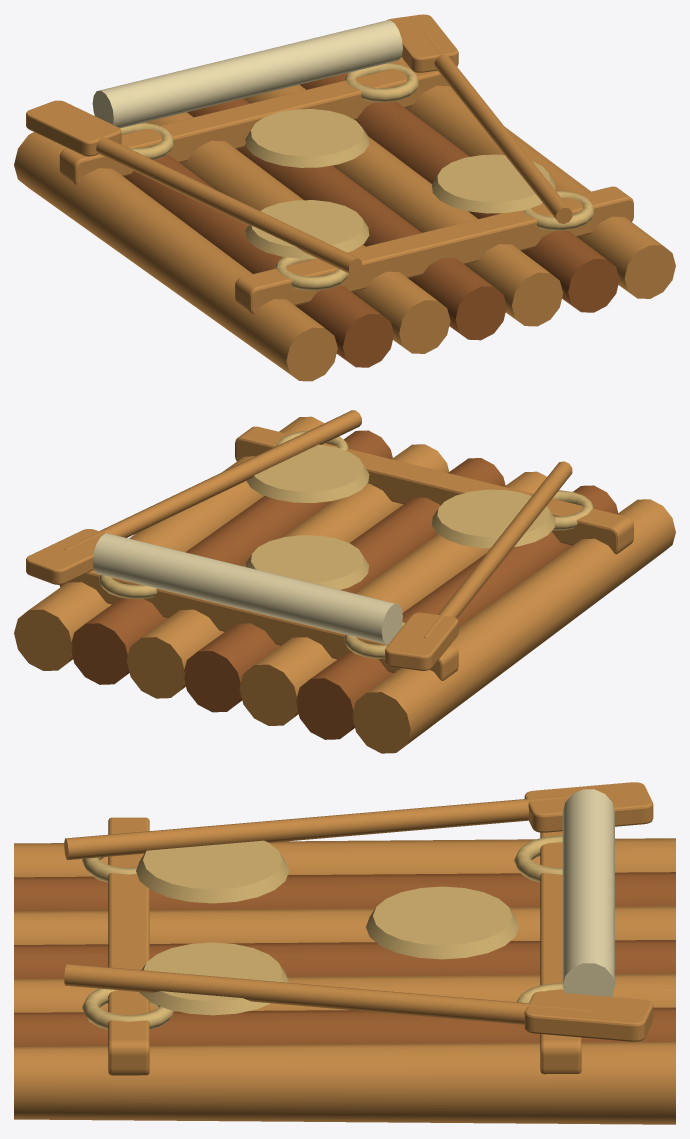
Rendered from raft.glb.
The picture shows the model from 3 angles, top to bottom: view 1: azimuth 30°, elevation 25°; view 2: azimuth 150°, elevation 25°; view 3: azimuth 270°, elevation 25°; orthographic projection. The views are drawn at different scales.
Visible parts, largest first — view 1: Raft_RaftWoodLight_0, Raft_RaftWood_1, Raft_RopeFiber_2, Raft_RolledSail_3; view 2: Raft_RaftWoodLight_0, Raft_RaftWood_1, Raft_RopeFiber_2, Raft_RolledSail_3; view 3: Raft_RaftWoodLight_0, Raft_RaftWood_1, Raft_RopeFiber_2, Raft_RolledSail_3.
Part boxes in pixels (x1,y1,x2,y2): Raft_RaftWoodLight_0: [14, 14, 675, 381]; Raft_RaftWood_1: [124, 73, 619, 367]; Raft_RopeFiber_2: [120, 62, 594, 290]; Raft_RolledSail_3: [92, 20, 402, 128]; Raft_RaftWoodLight_0: [14, 410, 675, 753]; Raft_RaftWood_1: [71, 430, 617, 739]; Raft_RopeFiber_2: [99, 431, 594, 658]; Raft_RolledSail_3: [92, 533, 402, 644]; Raft_RaftWoodLight_0: [14, 782, 675, 1124]; Raft_RaftWood_1: [14, 872, 675, 1046]; Raft_RopeFiber_2: [82, 835, 563, 1029]; Raft_RolledSail_3: [562, 789, 614, 996].
Bounding box in the file's own units: 1.65 × 0.4531 × 1.9.
